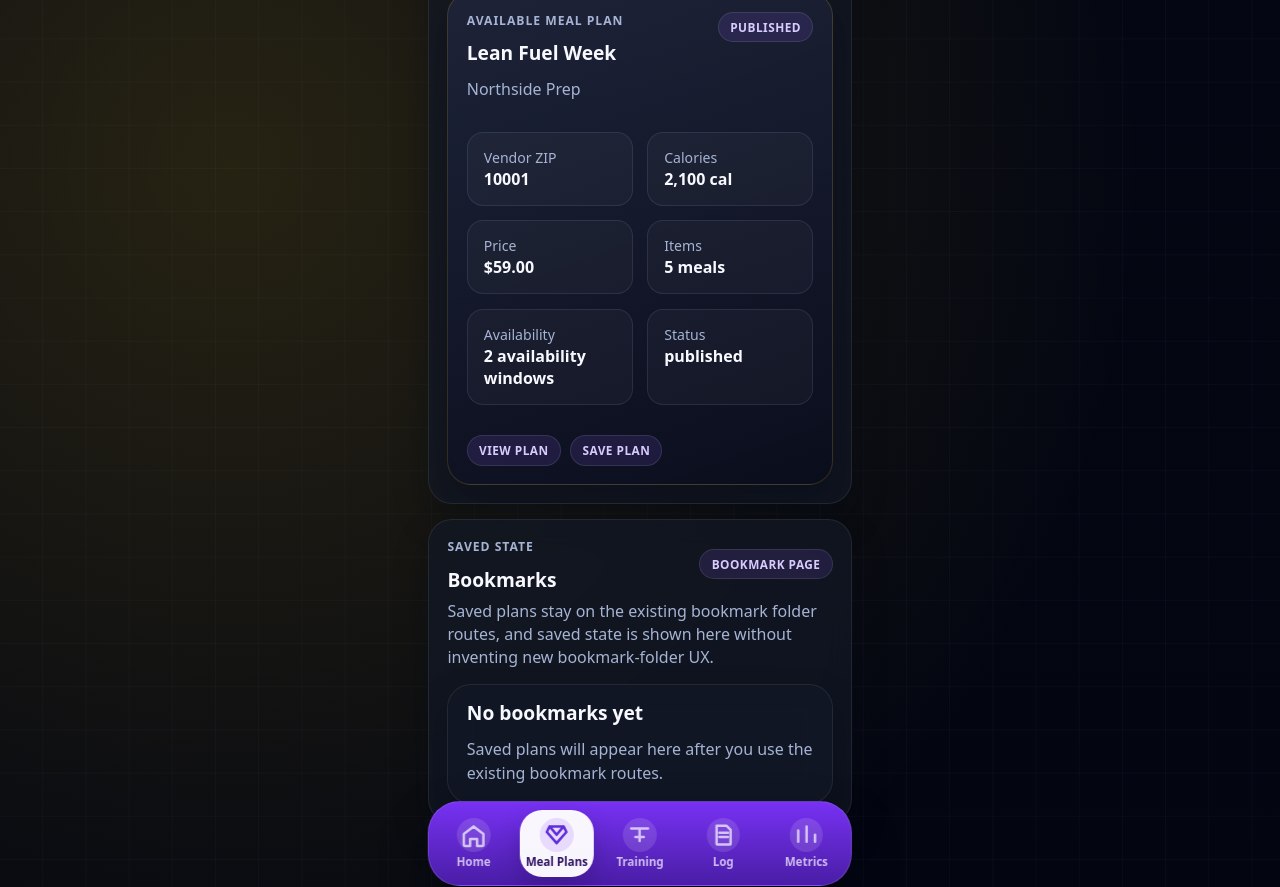
Scenario: ClientMealPlansPage mobile experience › creates the default folder and saves a bookmark through the existing bookmark BFF routes
This screenshot has width=1280, height=887.
(page scrolled)
Click the button named "Save plan for Lean Fuel Week" at (616, 450), box [570,435,662,466]
(page scrolled)
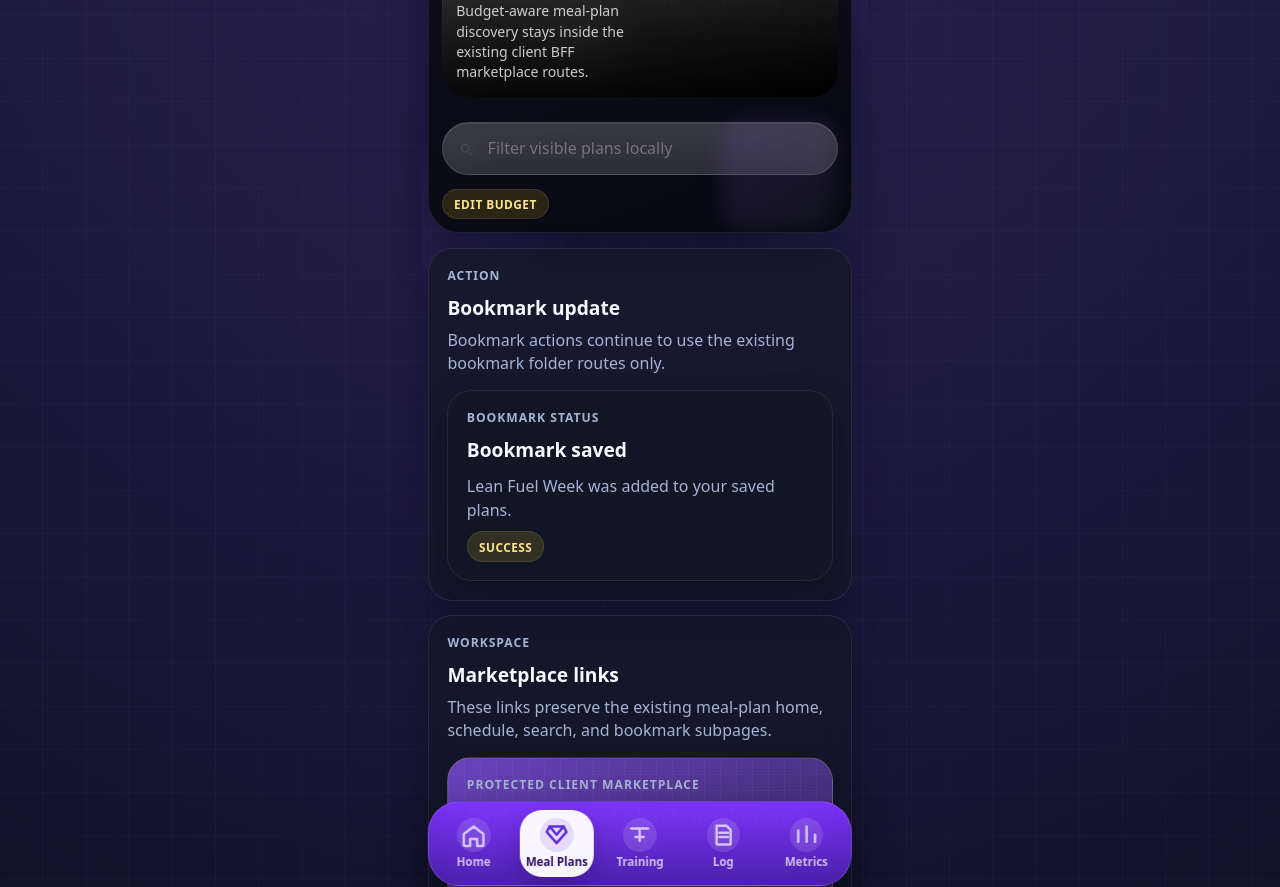
Result: the heading "Bookmark saved" is shown at [467,436,627,463]
